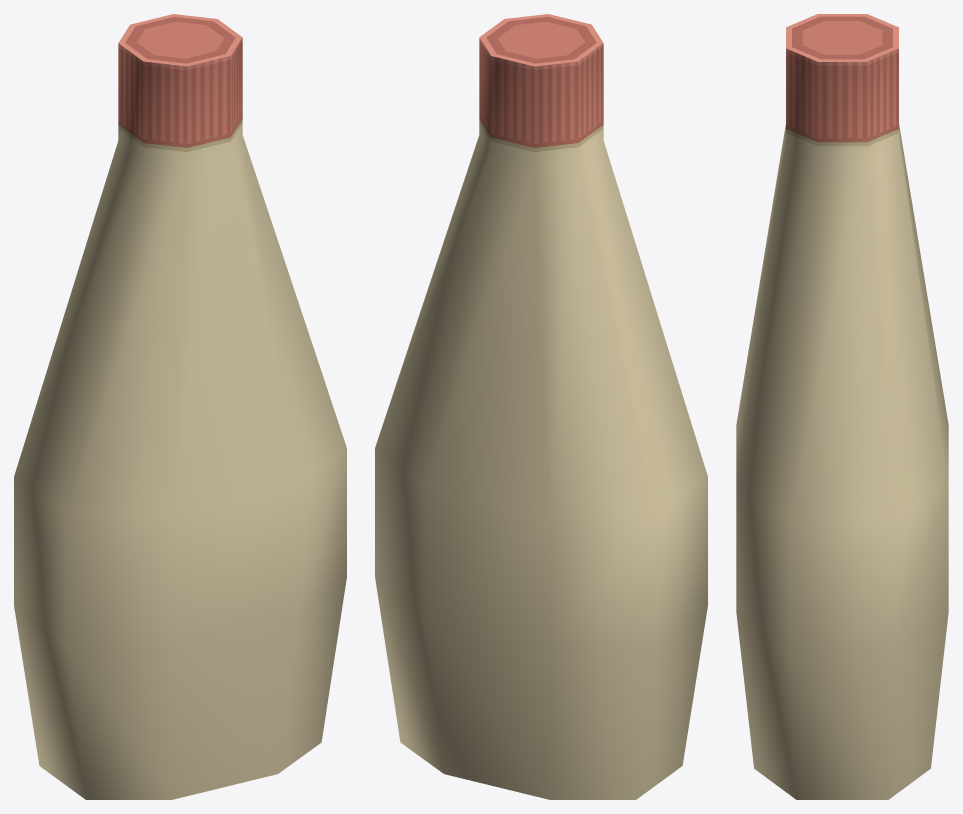
The model's file is 01ae_Mayonnaise.glb.
3 views of the same model, side by side, from view 1: azimuth 30°, elevation 25°; view 2: azimuth 150°, elevation 25°; view 3: azimuth 270°, elevation 25° (orthographic).
Parts seen in each view (by area): view 1: part_0; view 2: part_0; view 3: part_0.
Boxes of the visible parts, x1,y1,x2,y2 form: part_0: (14, 14, 346, 799); part_0: (375, 14, 707, 799); part_0: (736, 14, 948, 799).
Bounding box in the file's own units: 0.09 × 0.22 × 0.06.
Materials: 1 (1 with a texture image).
